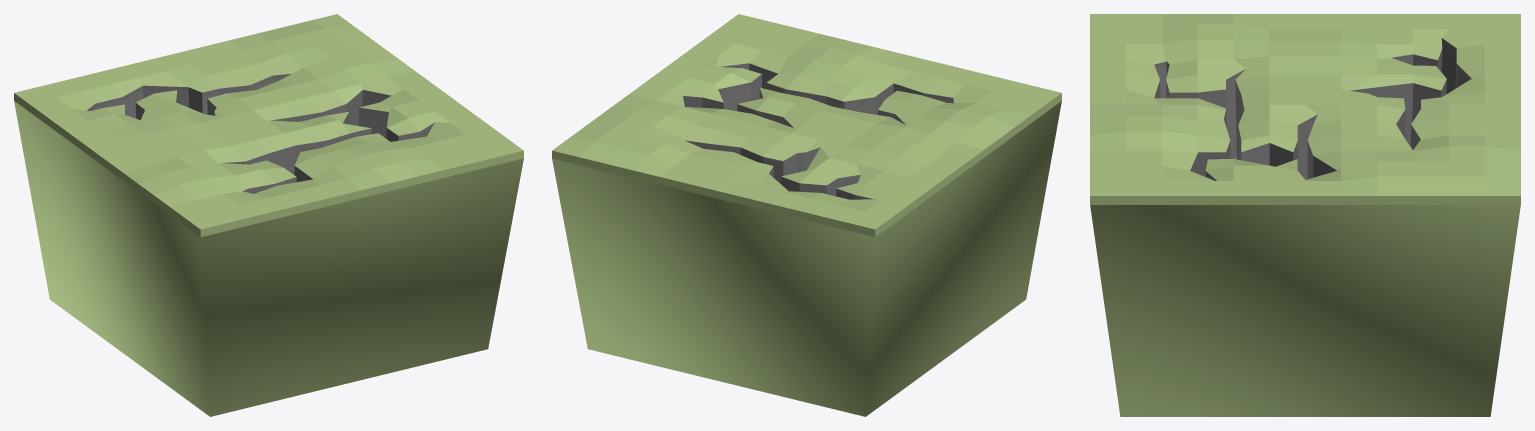
File: Ravine II.fbx
The picture shows the model from 3 angles, left to right: view 1: azimuth 30°, elevation 25°; view 2: azimuth 150°, elevation 25°; view 3: azimuth 270°, elevation 25°; orthographic projection. The views are drawn at different scales.
Visible parts, largest first — view 1: Ravine II; view 2: Ravine II; view 3: Ravine II.
Part boxes in pixels (x1=…): Ravine II: x1=14, y1=14, x2=523, y2=416; Ravine II: x1=552, y1=14, x2=1061, y2=416; Ravine II: x1=1090, y1=14, x2=1520, y2=416.
Bounding box in the file's own units: 1600 × 977 × 1600.
